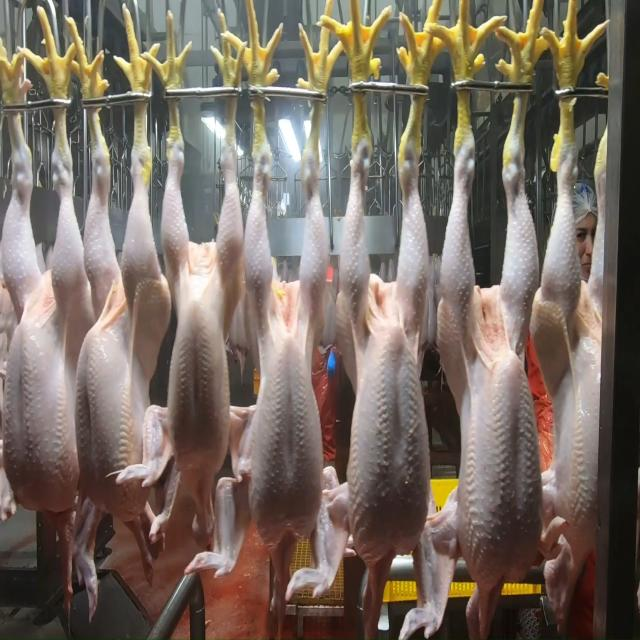chicken: (429, 180, 544, 578), (334, 177, 437, 562), (241, 166, 331, 536), (158, 148, 244, 501), (0, 156, 82, 510), (536, 180, 614, 550), (83, 168, 166, 513)
